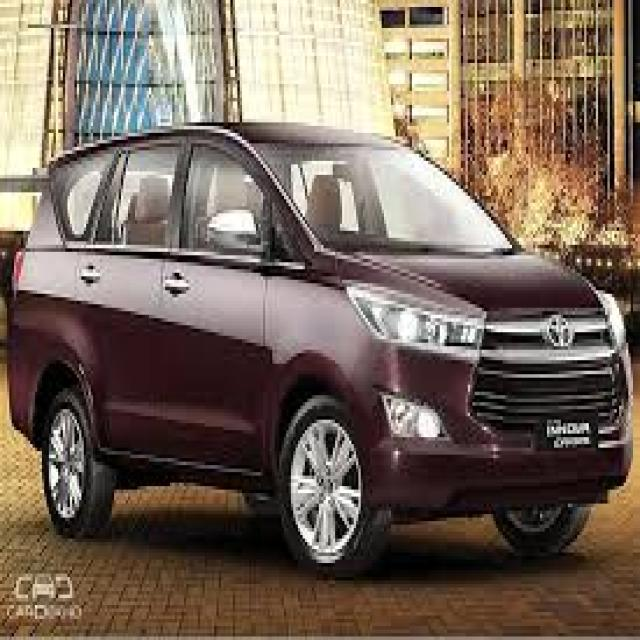light_vehicle: (8, 120, 634, 580)
